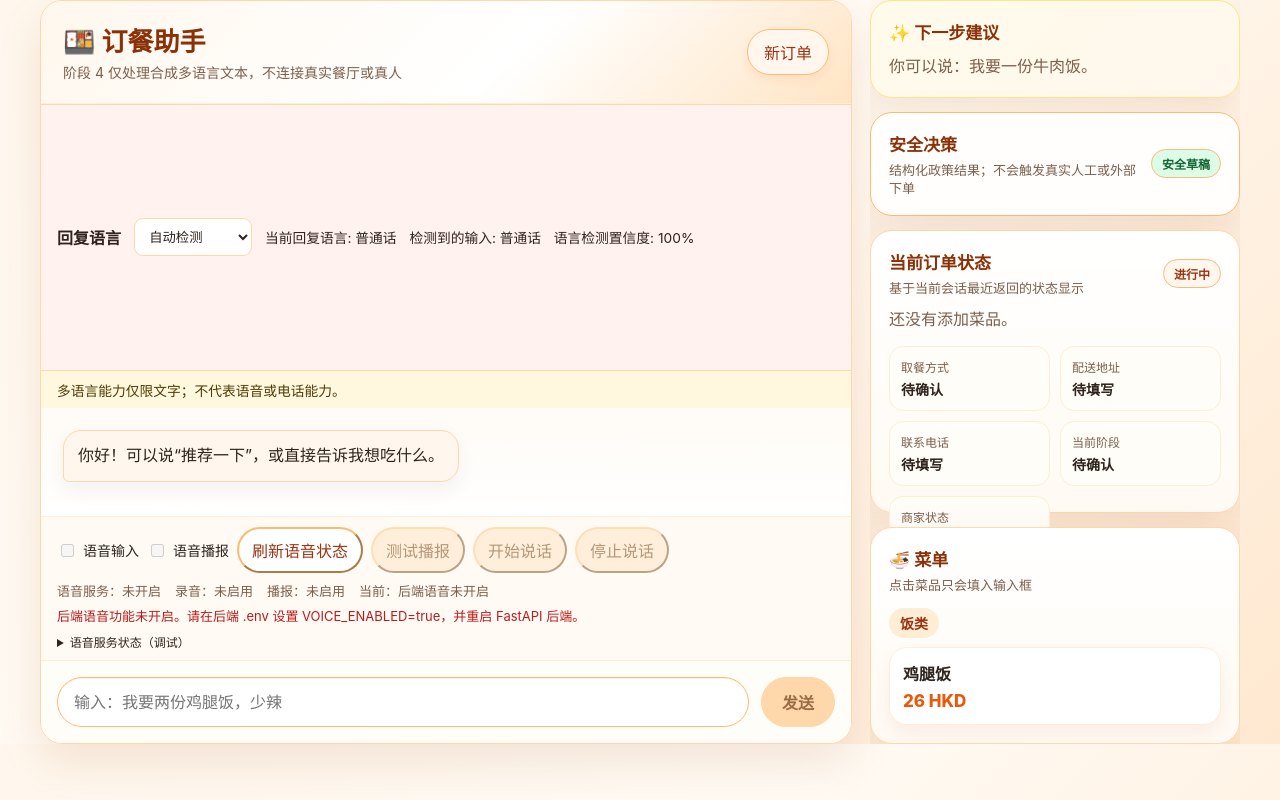
Test: ChatWindow order UX › menu clicks fill the input without submitting a chat request
What coordinates should you click on to do the following:
click the button with aria-label "填入我要一份鸡腿饭"
I would click on:
 (927, 674)
Its box is [889,647,1221,725].
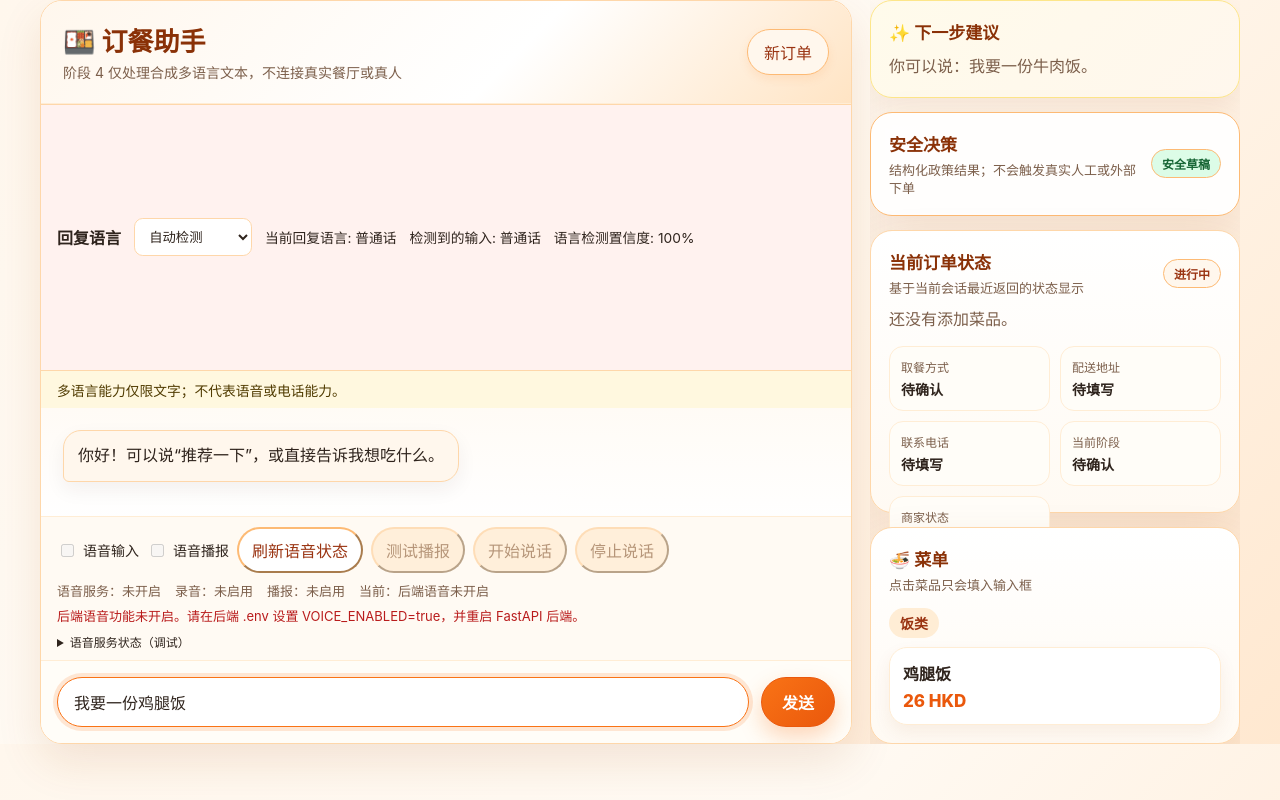
Result: the field named "输入点餐消息" holds "我要一份鸡腿饭" at [57,677,749,727]
